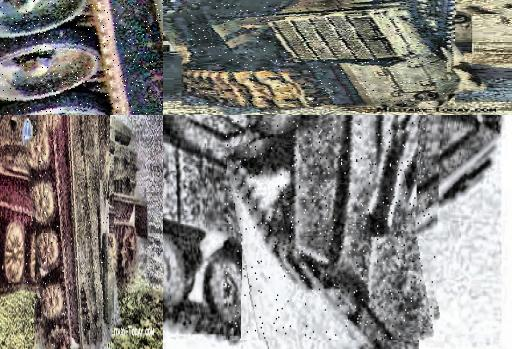tanks: (226, 123, 436, 341), (188, 3, 453, 108), (25, 121, 114, 349), (1, 1, 164, 116)
